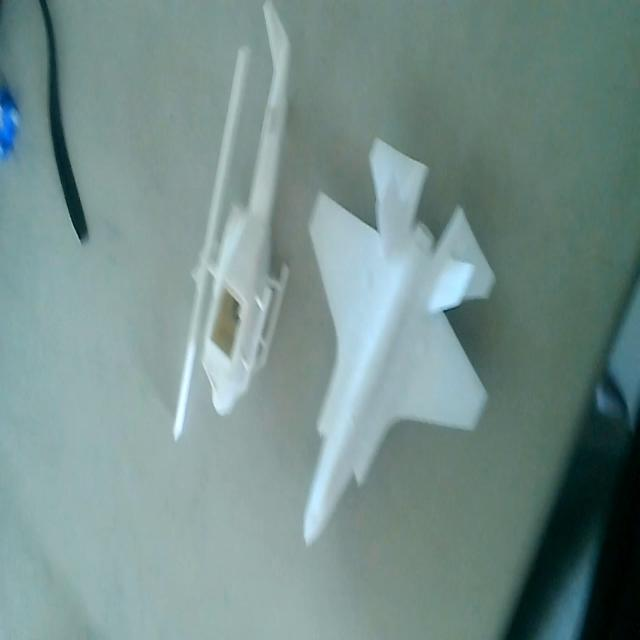Helicopter: (171, 2, 296, 470)
Jet: (299, 128, 497, 558)
